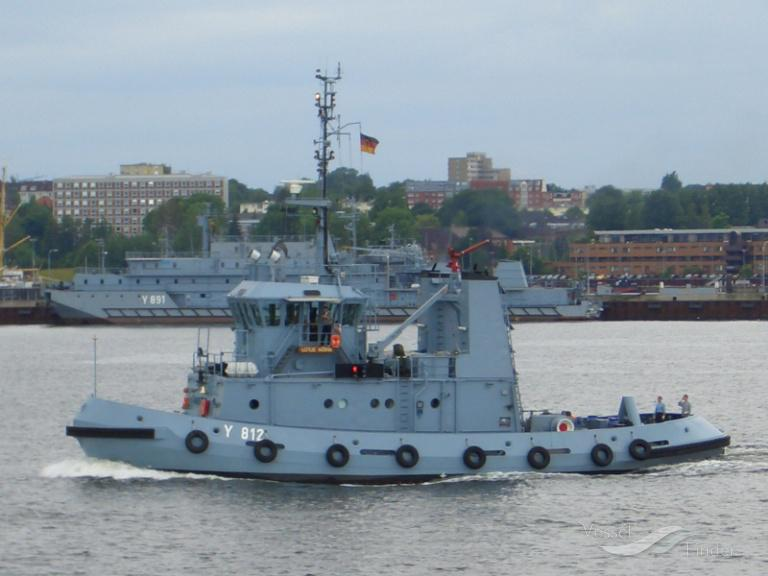OCR: (222, 419, 268, 444)
